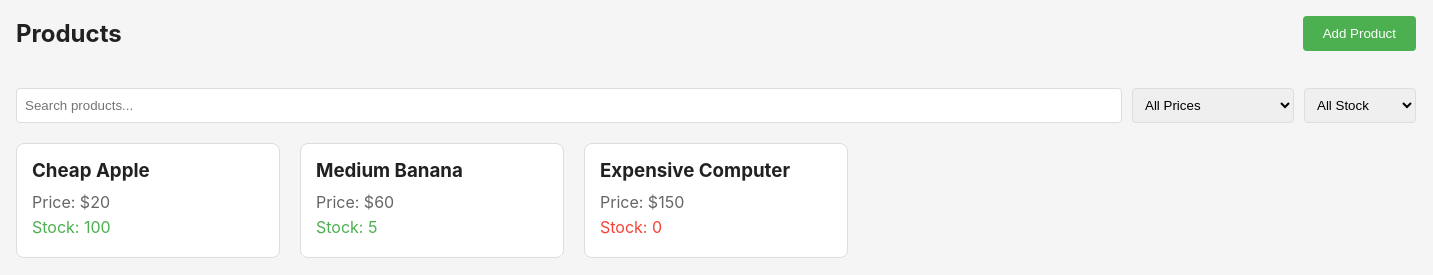
ProductList Component › filters products by stock status
expect the heading "Cheap Apple" is shown: met, box [32,159,150,182]
Select "Out of Stock" in the 2nd dropdown at (1360, 105), box [1304,88,1416,123]
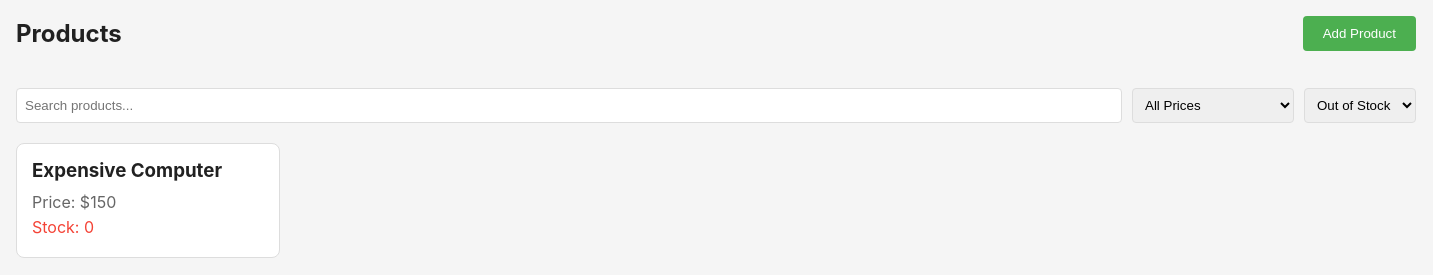
expect the heading "Expensive Computer" is shown: met, box [32,159,222,182]
expect the heading "Cheap Apple" is gone: met
Select "Low Stock" in the 2nd dropdown at (1360, 105), box [1304,88,1416,123]
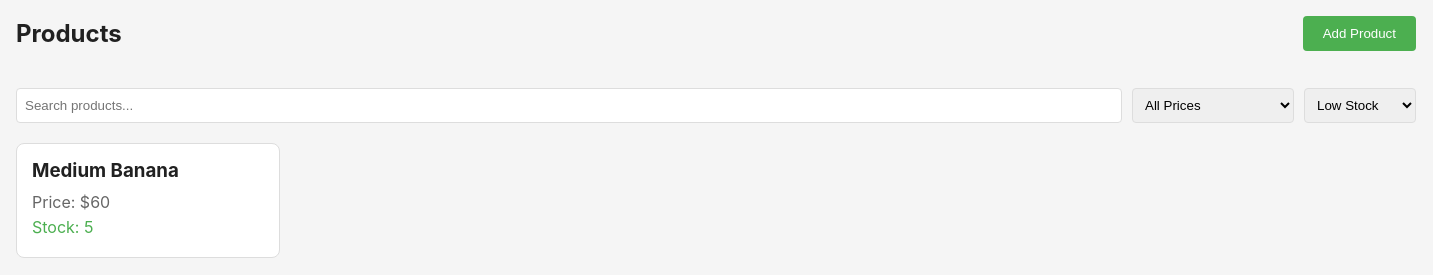
expect the heading "Medium Banana" is shown: met, box [32,159,179,182]
expect the heading "Expensive Computer" is gone: met
